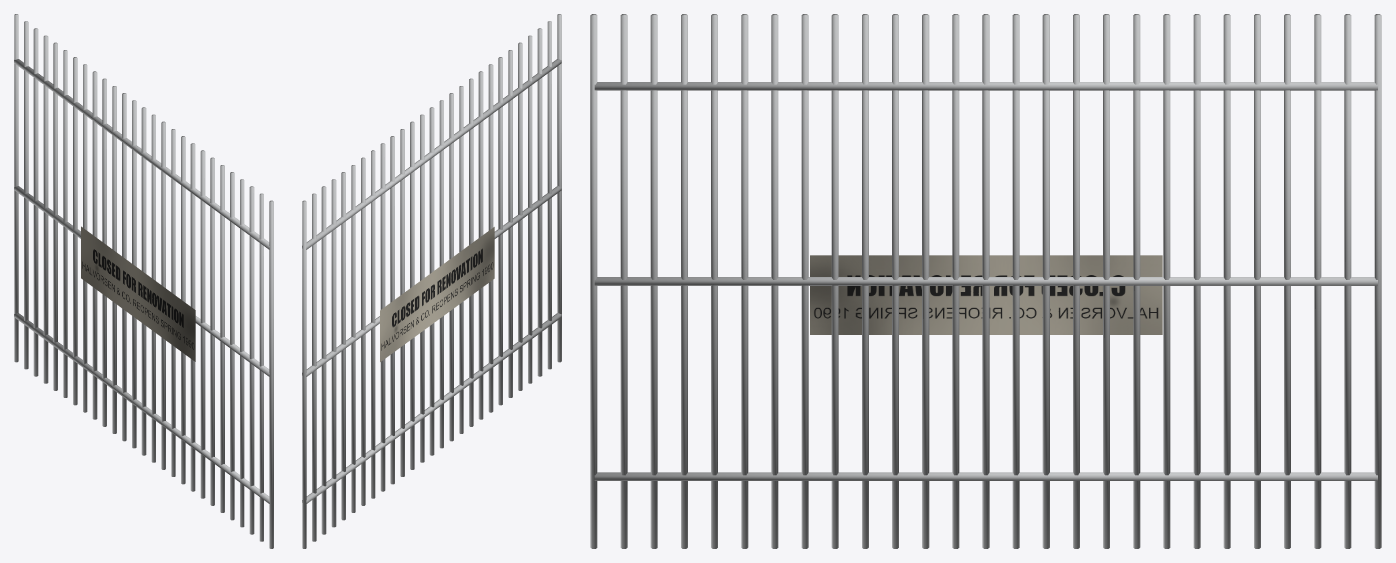
File: grille.glb
The picture shows the model from 3 angles, left to right: view 1: azimuth 30°, elevation 25°; view 2: azimuth 150°, elevation 25°; view 3: azimuth 270°, elevation 25°; orthographic projection. The views are drawn at different scales.
Visible parts, largest first — view 1: metal, poster; view 2: metal, poster; view 3: metal, poster.
Part boxes in pixels (x1,y1,x2,y2): metal: (14,14,273,548); poster: (81,226,195,361); metal: (302,14,561,548); poster: (380,227,494,361); metal: (590,14,1381,548); poster: (810,255,1162,334).
Bounding box in the file's own units: 0.0717 × 3 × 4.04.
2 materials, 1 textured.
